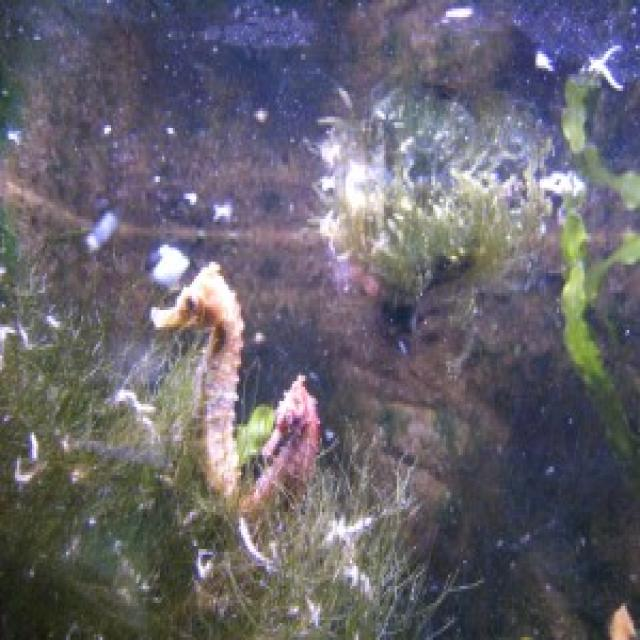Seahorse: (141, 241, 250, 524), (263, 358, 323, 544)
